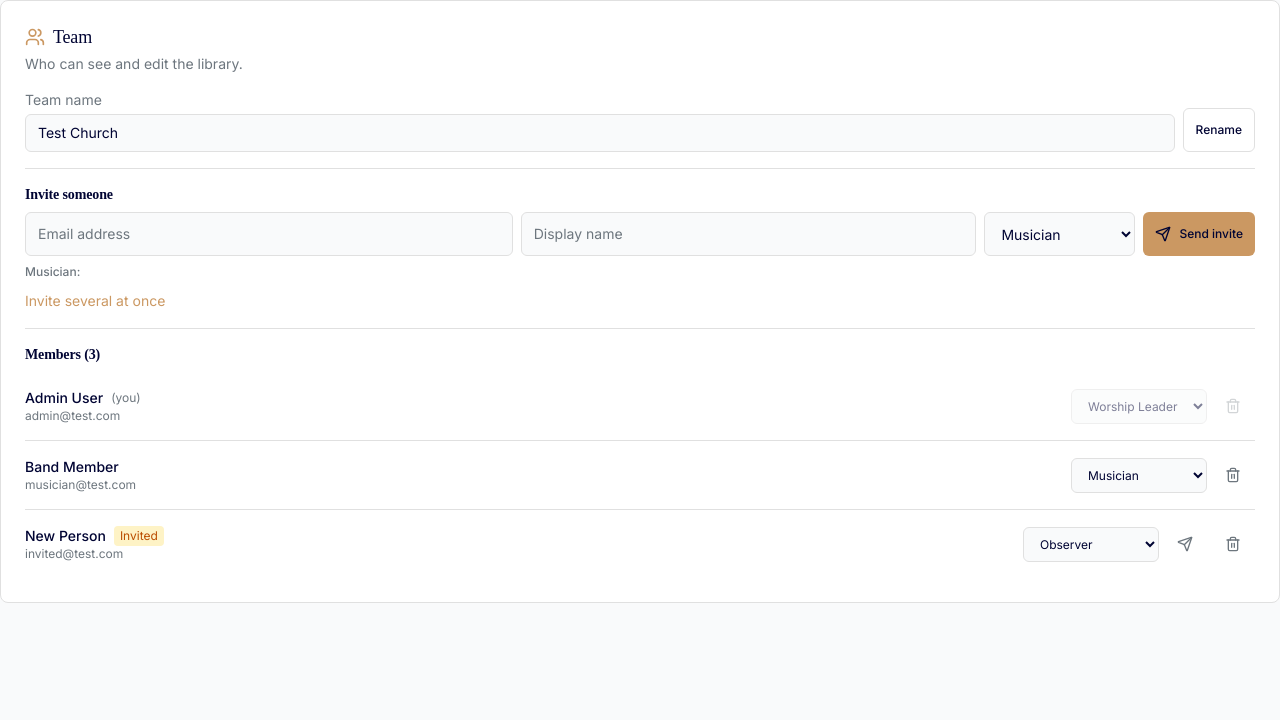
Test: TeamSection › invites a member, shows the link and reloads the list
Expected: the text "Band Member" is shown, [25, 457, 119, 477]
Type "new@test.com" into the field labelled "Email address" at (269, 234), box [25, 212, 513, 256]
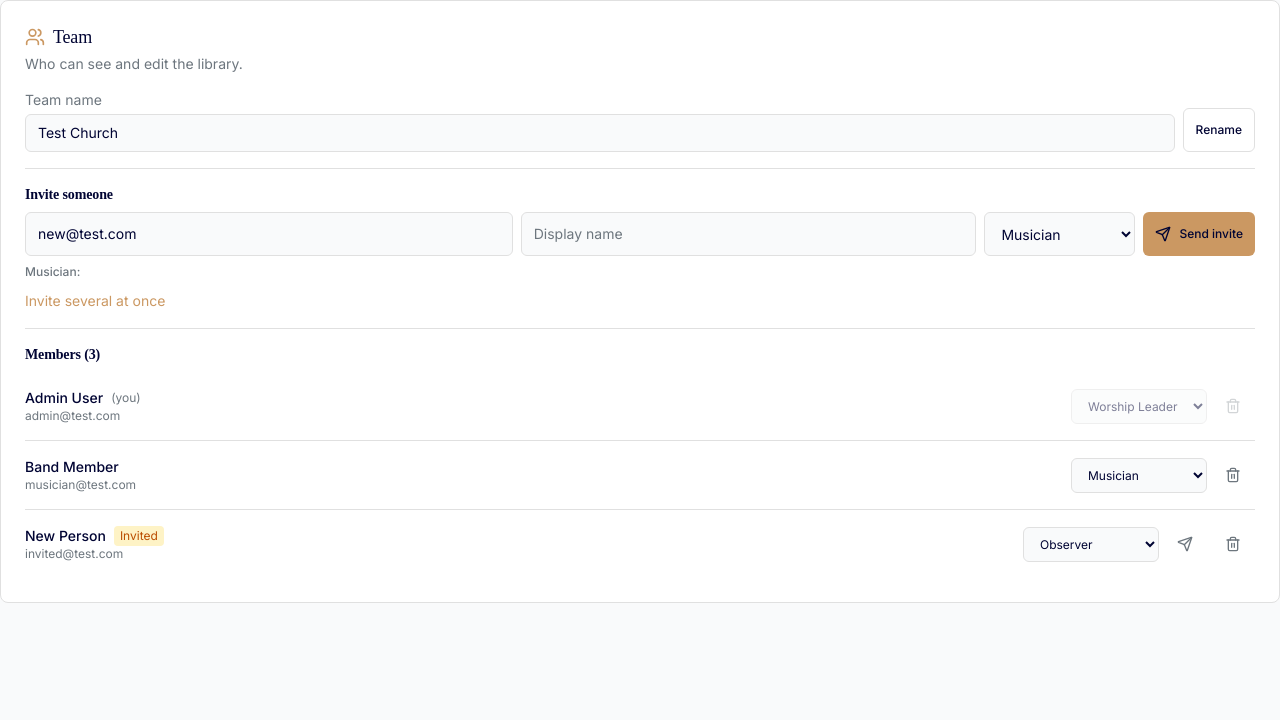
Type "New Guy" into the field named "Display name for the invite" at (749, 234), box [521, 212, 976, 256]
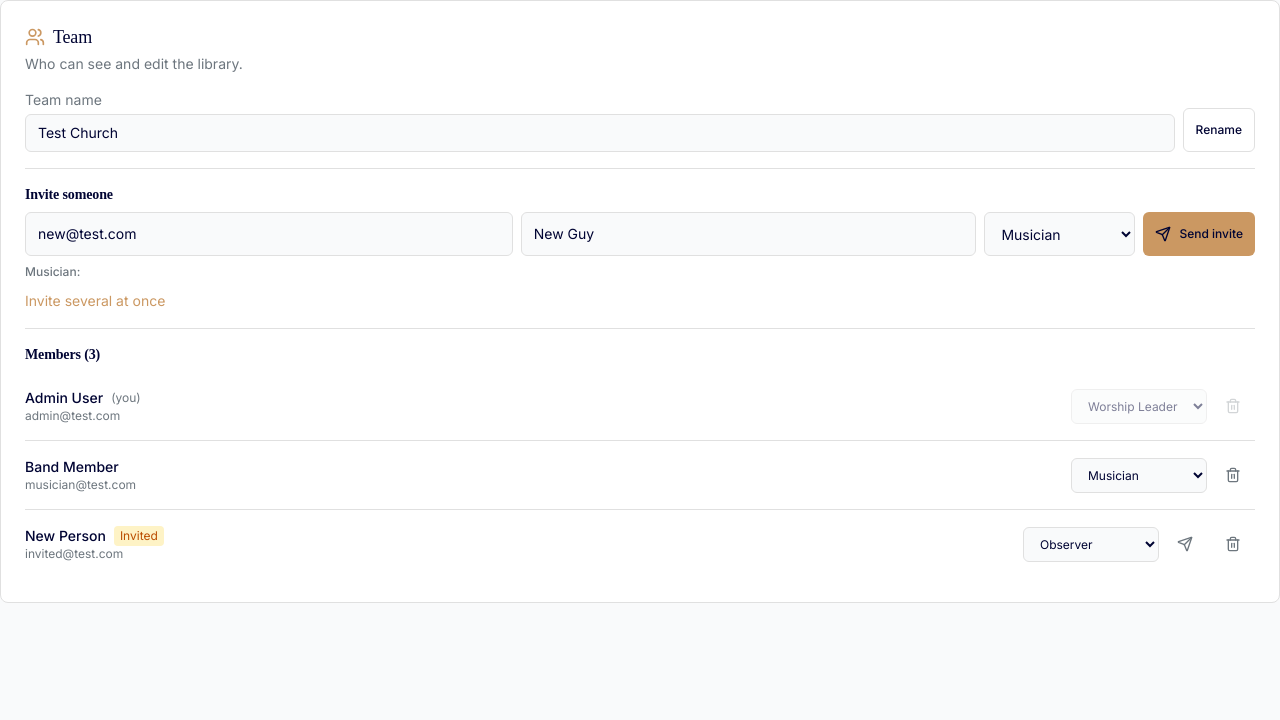
Click the button "Send invite" at (1199, 234), box [1143, 212, 1255, 256]
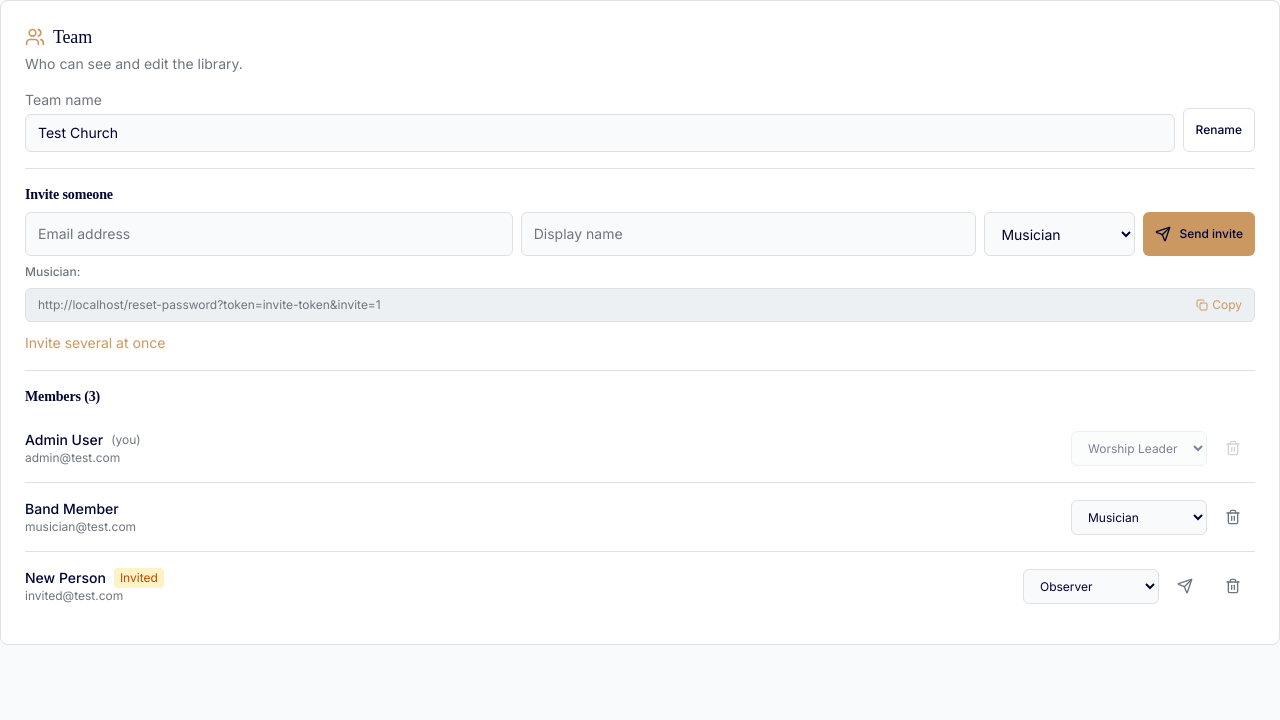
Expected: the text "http://localhost/reset-password?token=invite-token&invite=1" is shown, [38, 297, 381, 312]
